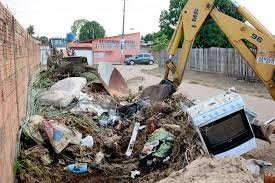rubble: (34, 72, 205, 176)
